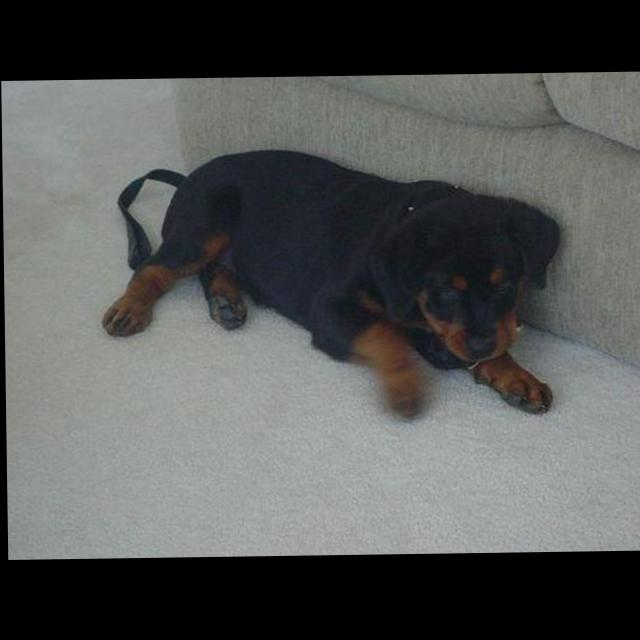rottweiler: (99, 143, 565, 425)
